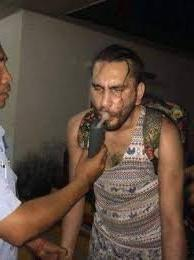Drunk: (92, 62, 134, 127)
